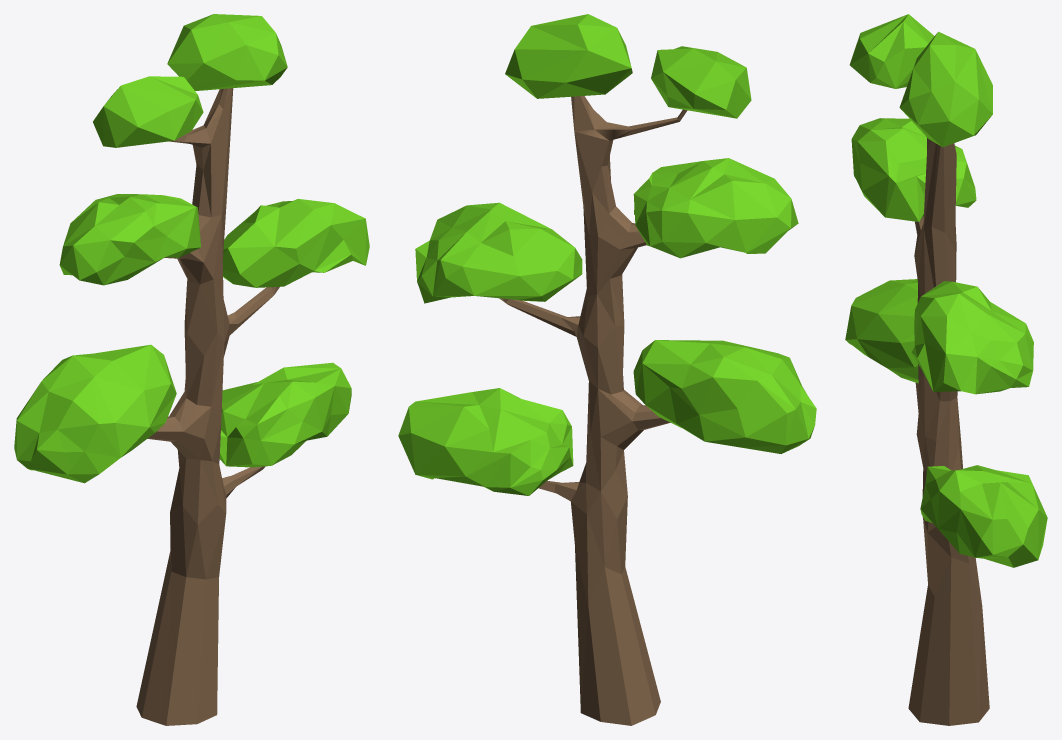
Rendered from Tree_test2.fbx.
3 renders of one model, left to right at view 1: azimuth 30°, elevation 25°; view 2: azimuth 150°, elevation 25°; view 3: azimuth 270°, elevation 25°, orthographic.
Parts seen in each view (by area): view 1: Tree_base, Tree_09.001, Tree_09.007, Tree_09.002, Tree_09.003, Tree_09.005, Tree_09.004, Branch3; view 2: Tree_base, Tree_09.001, Tree_09.007, Tree_09.002, Tree_09.003, Tree_09.005, Tree_09.004, Branch3, Branch1; view 3: Tree_base, Tree_09.002, Tree_09.007, Tree_09.005, Tree_09.003, Tree_09.001, Tree_09.004.
Boxes of the visible parts, x1=… form: Tree_base: x1=136, y1=88, x2=233, y2=725; Tree_09.001: x1=14, y1=344, x2=176, y2=483; Tree_09.007: x1=219, y1=362, x2=351, y2=467; Tree_09.002: x1=222, y1=199, x2=369, y2=287; Tree_09.003: x1=59, y1=194, x2=200, y2=285; Tree_09.005: x1=167, y1=14, x2=287, y2=90; Tree_09.004: x1=93, y1=76, x2=203, y2=147; Branch3: x1=228, y1=287, x2=279, y2=335; Tree_base: x1=570, y1=96, x2=660, y2=725; Tree_09.001: x1=633, y1=340, x2=816, y2=453; Tree_09.007: x1=398, y1=388, x2=573, y2=495; Tree_09.002: x1=415, y1=202, x2=582, y2=303; Tree_09.003: x1=633, y1=158, x2=798, y2=258; Tree_09.005: x1=505, y1=14, x2=632, y2=98; Tree_09.004: x1=651, y1=46, x2=751, y2=118; Branch3: x1=499, y1=298, x2=580, y2=336; Branch1: x1=595, y1=109, x2=687, y2=140; Tree_base: x1=908, y1=140, x2=989, y2=725; Tree_09.002: x1=911, y1=281, x2=1033, y2=394; Tree_09.007: x1=920, y1=465, x2=1047, y2=567; Tree_09.005: x1=899, y1=31, x2=992, y2=147; Tree_09.003: x1=851, y1=118, x2=976, y2=221; Tree_09.001: x1=845, y1=279, x2=918, y2=383; Tree_09.004: x1=849, y1=14, x2=934, y2=88.
Size of the model in its own units: 342 by 604 by 162.
